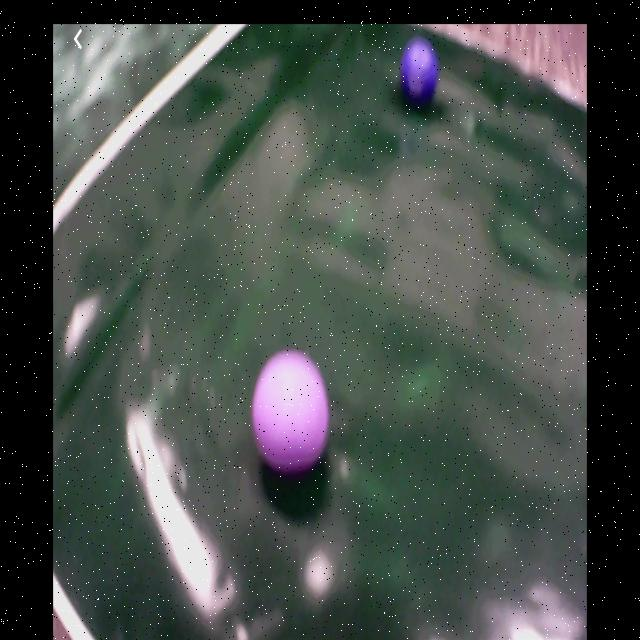ball: (250, 352, 330, 471), (401, 39, 440, 108)
